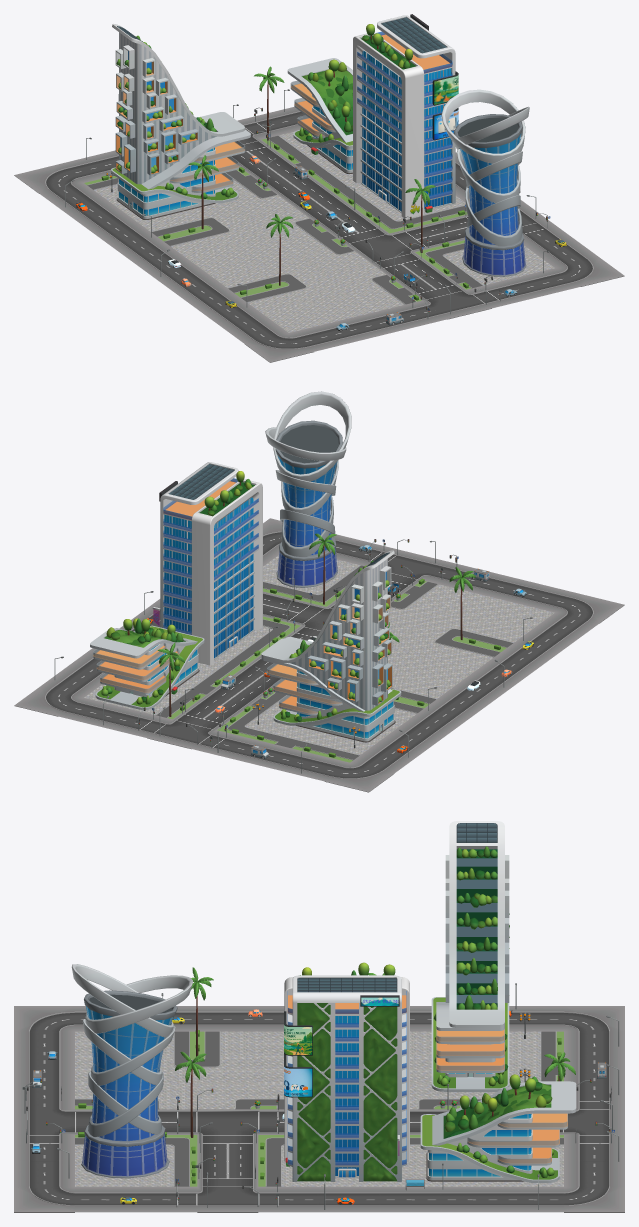
Rendered from city_map01.glb.
3 renders of one model, top to bottom at view 1: azimuth 30°, elevation 25°; view 2: azimuth 150°, elevation 25°; view 3: azimuth 270°, elevation 25°, orthographic. The views are drawn at different scales.
Parts seen in each view (by area): view 1: Eco_Building_Grid.005, Eco_Building_Slope.005, Regular_Building_TwistedTower_Large.004, Eco_Building_Terrace.008, road_013.020, road_013.036, road_013.018, road_009.008, road_019.005, Set_B_Tiles_09.020, Set_B_Tiles_06.005, Set_B_Tiles_09.005 (+54 smaller); view 2: Eco_Building_Grid.005, Eco_Building_Slope.005, Regular_Building_TwistedTower_Large.004, Eco_Building_Terrace.008, road_013.018, road_013.036, road_013.019, road_009.231, road_009.239, road_009.236, Set_B_Tiles_09.017, Set_B_Tiles_09.020 (+41 smaller); view 3: Eco_Building_Grid.005, Eco_Building_Slope.005, Regular_Building_TwistedTower_Large.004, Eco_Building_Terrace.008, road_009.245, road_009.246, road_022.127, road_022.070, road_020.085, road_009.244, road_003.008, Set_B_Tiles_06.003 (+48 smaller).
Boxes of the visible parts, x1,y1,x2,y2 form: Eco_Building_Grid.005: (353, 15, 455, 218); Eco_Building_Slope.005: (111, 23, 250, 219); Regular_Building_TwistedTower_Large.004: (441, 89, 529, 276); Eco_Building_Terrace.008: (287, 58, 352, 173); road_013.020: (555, 257, 624, 286); road_013.036: (245, 333, 313, 362); road_013.018: (14, 164, 83, 193); road_009.008: (511, 268, 580, 297); road_019.005: (422, 290, 491, 319); Set_B_Tiles_09.020: (187, 247, 255, 276); Set_B_Tiles_06.005: (282, 274, 351, 303); Set_B_Tiles_09.005: (308, 292, 377, 321); Eco_Building_Grid.005: (160, 462, 262, 665); Eco_Building_Slope.005: (261, 550, 401, 742); Regular_Building_TwistedTower_Large.004: (265, 391, 351, 587); Eco_Building_Terrace.008: (90, 618, 204, 709); road_013.018: (324, 762, 394, 792); road_013.036: (555, 594, 624, 623); road_013.019: (14, 687, 83, 716); road_009.231: (529, 613, 598, 642); road_009.239: (280, 752, 349, 781); road_009.236: (401, 706, 470, 735); Set_B_Tiles_09.017: (485, 602, 554, 631); Set_B_Tiles_09.020: (408, 658, 477, 687); Eco_Building_Grid.005: (284, 962, 409, 1181); Eco_Building_Slope.005: (431, 821, 509, 1091); Regular_Building_TwistedTower_Large.004: (71, 964, 192, 1178); Eco_Building_Terrace.008: (420, 1074, 576, 1182); road_009.245: (441, 1186, 502, 1212); road_009.246: (502, 1186, 563, 1212); road_022.127: (258, 1186, 319, 1212); road_022.070: (136, 1186, 197, 1212); road_020.085: (197, 1134, 258, 1161); road_009.244: (380, 1186, 441, 1212); road_003.008: (197, 1109, 258, 1135); Set_B_Tiles_06.003: (197, 1083, 258, 1109).
Size of the model in its own units: 120 by 57.49 by 150.
16 materials, 14 textured.
